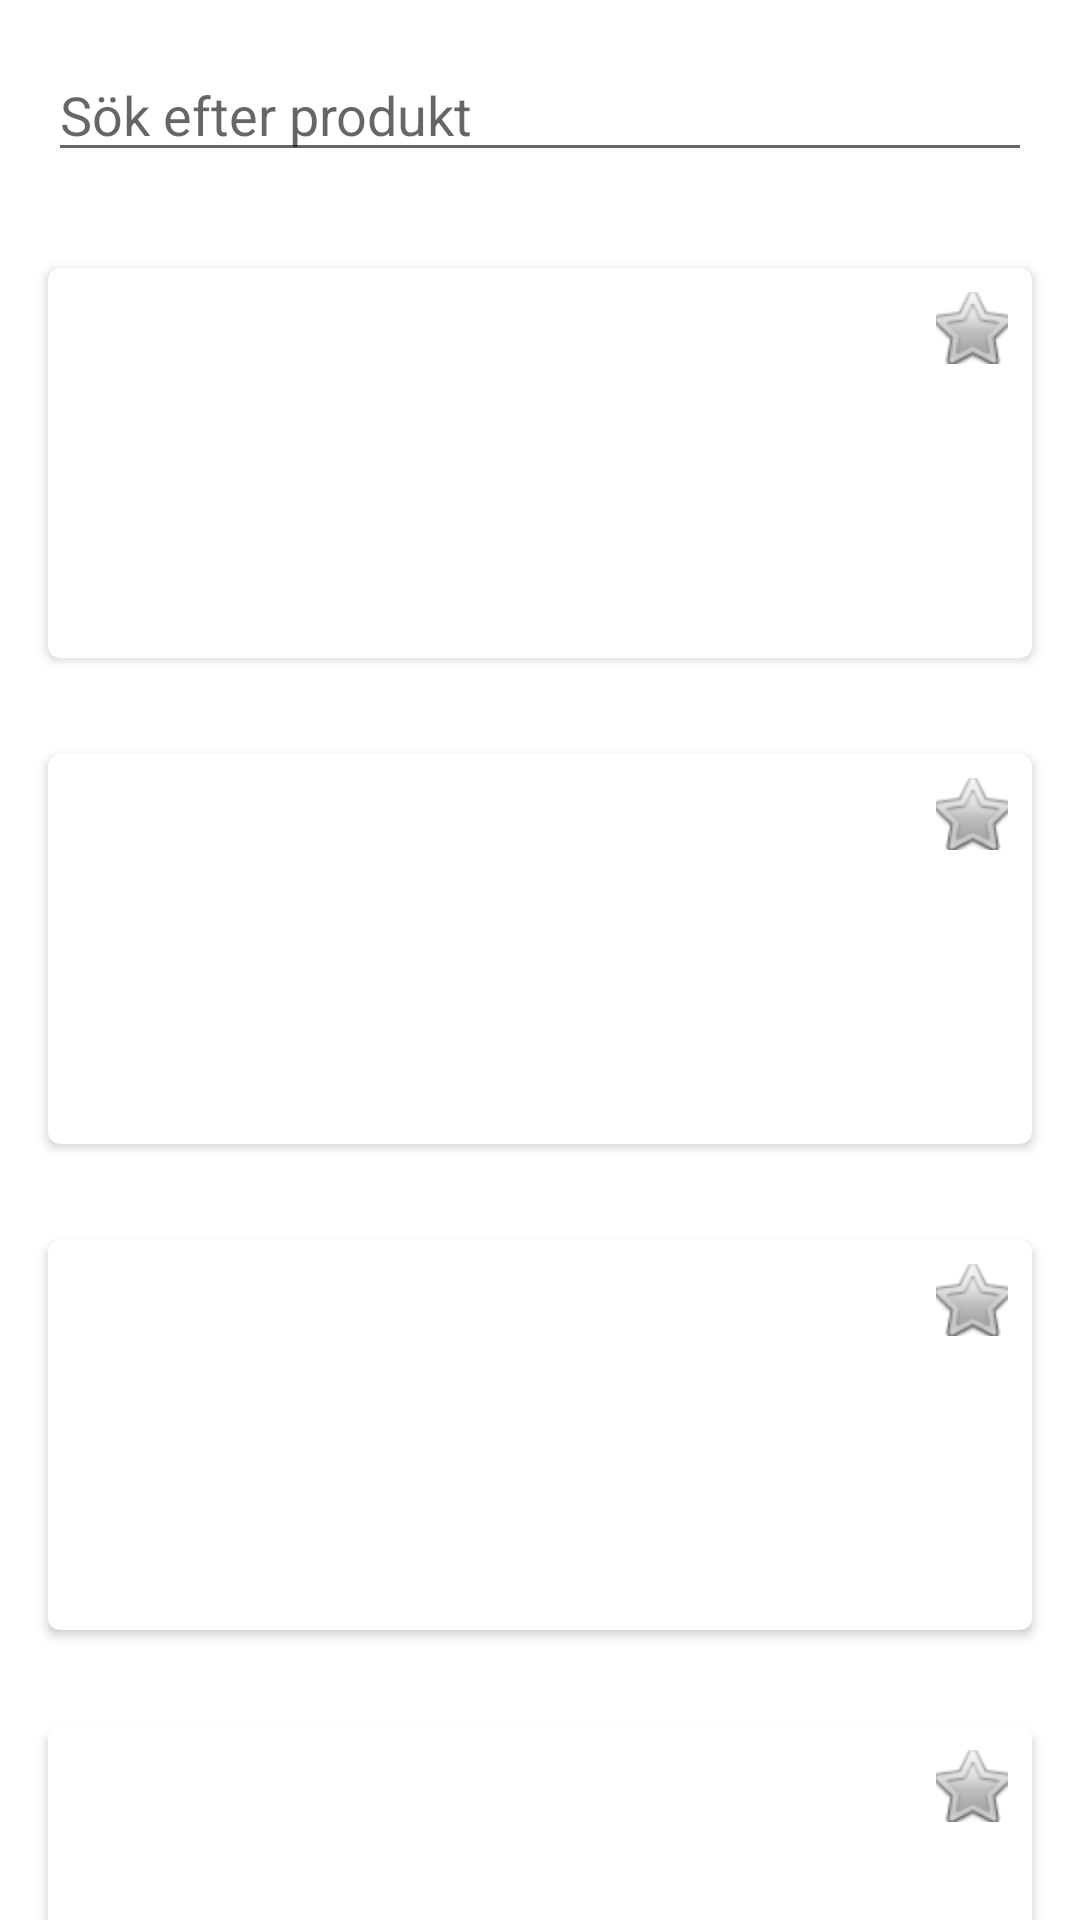

Icon bounding boxes for this 1080 × 1920 phone screenshot, format (x1, y1, x2, y2):
star: (936, 292, 1008, 364), (936, 778, 1008, 850), (936, 1264, 1008, 1336), (936, 1750, 1008, 1822)
